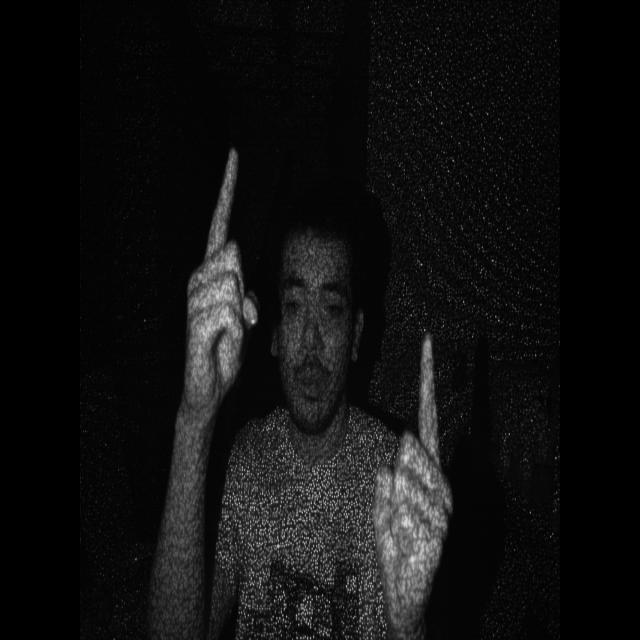STARS: (170, 128, 266, 414), (371, 312, 451, 628)
